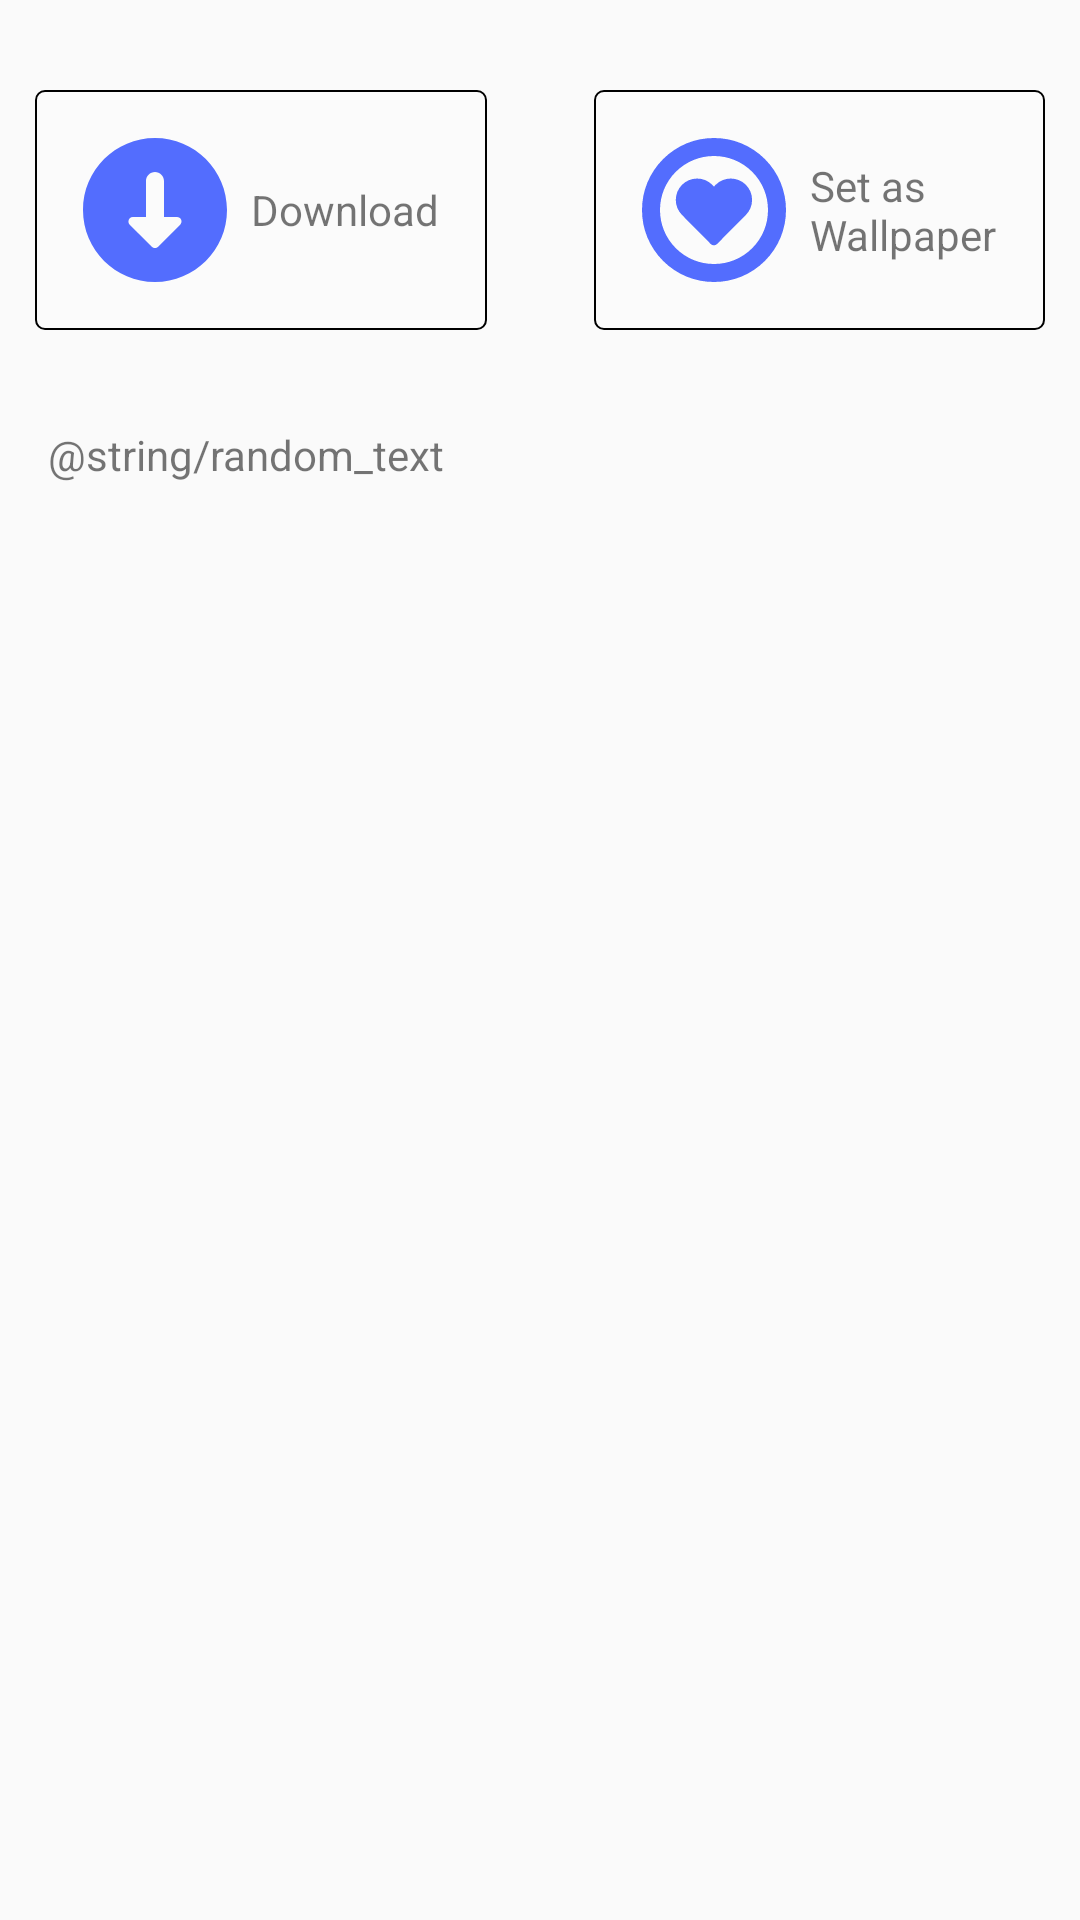

Named icons in this screenshot (1080 x 1920) and their centers, (x,y):
pictogram projects we love: (714,210)
